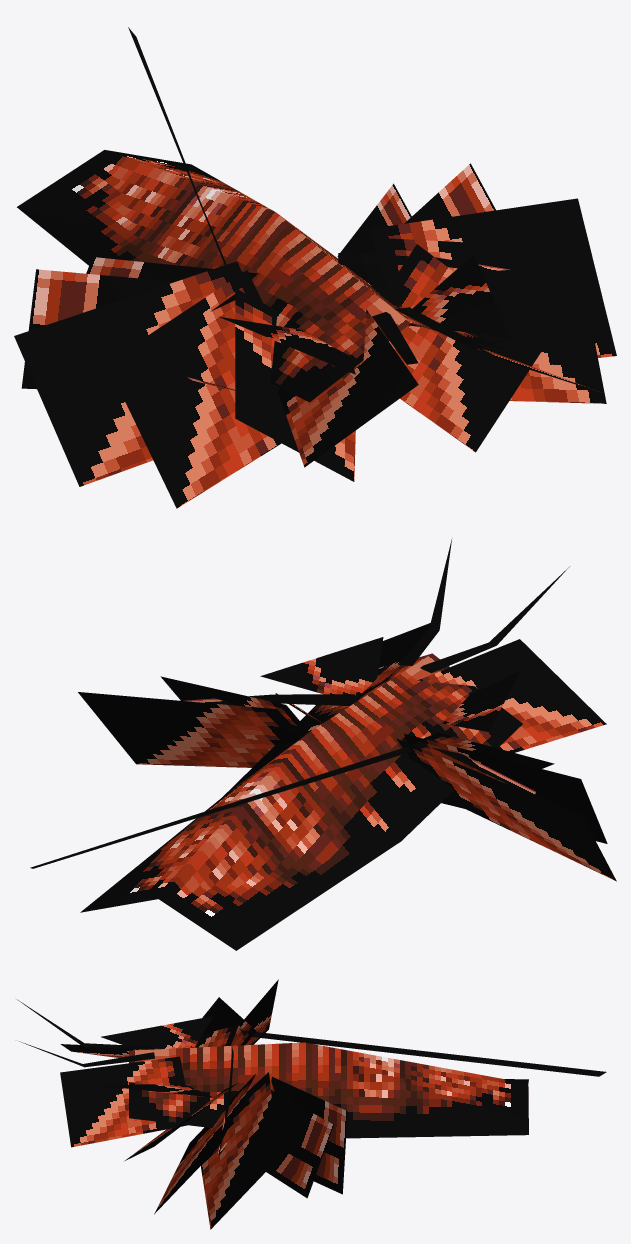
The picture shows the model from 3 angles, top to bottom: view 1: azimuth 30°, elevation 25°; view 2: azimuth 150°, elevation 25°; view 3: azimuth 270°, elevation 25°; orthographic projection. The views are drawn at different scales.
Parts seen in each view (by area): view 1: 4833fish43; view 2: 4833fish43; view 3: 4833fish43.
Boxes of the visible parts, x1=… form: 4833fish43: x1=14, y1=27, x2=616, y2=508; 4833fish43: x1=30, y1=539, x2=616, y2=950; 4833fish43: x1=17, y1=979, x2=606, y2=1229.
Size of the model in its own units: 0.5713 by 0.1899 by 0.8112.
1 material, 1 textured.
